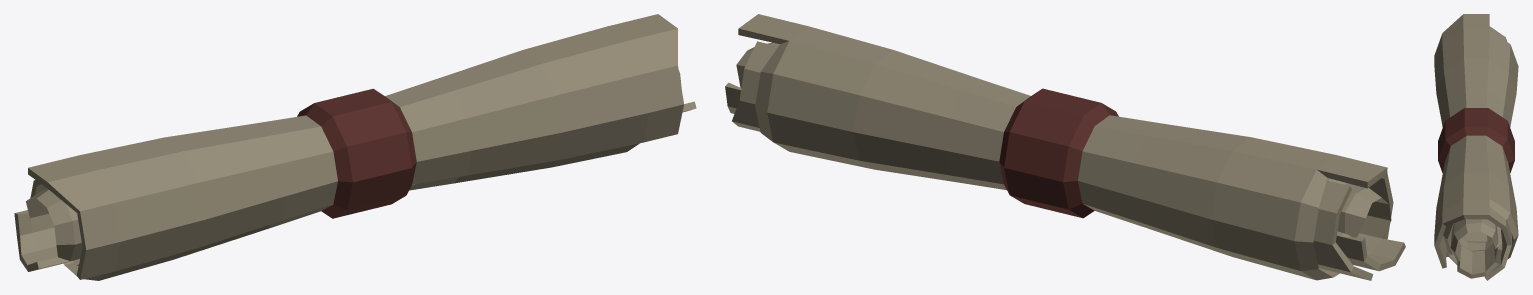
Rendered from Scroll.glb.
3 views of the same model, side by side, from view 1: azimuth 30°, elevation 25°; view 2: azimuth 150°, elevation 25°; view 3: azimuth 270°, elevation 25° (orthographic). The views are drawn at different scales.
Visible parts, largest first — view 1: Scroll_Cylinder.027; view 2: Scroll_Cylinder.027; view 3: Scroll_Cylinder.027.
Part boxes in pixels (x1,y1,x2,y2): Scroll_Cylinder.027: (14,14,696,280); Scroll_Cylinder.027: (725,14,1405,280); Scroll_Cylinder.027: (1434,14,1518,280).
Bounding box in the file's own units: 1.48 × 0.2384 × 0.2506.
